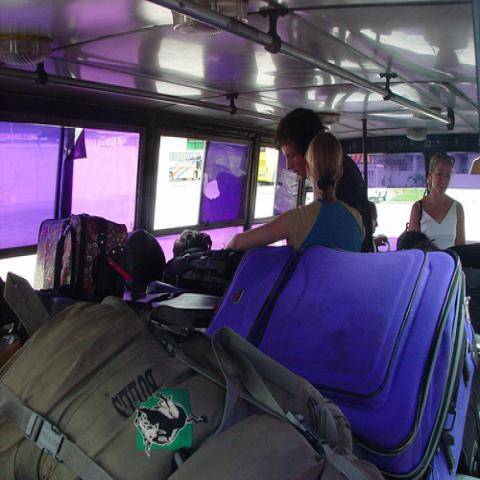bus: (0, 0, 480, 290), (169, 150, 204, 182)
car: (368, 188, 388, 203)
